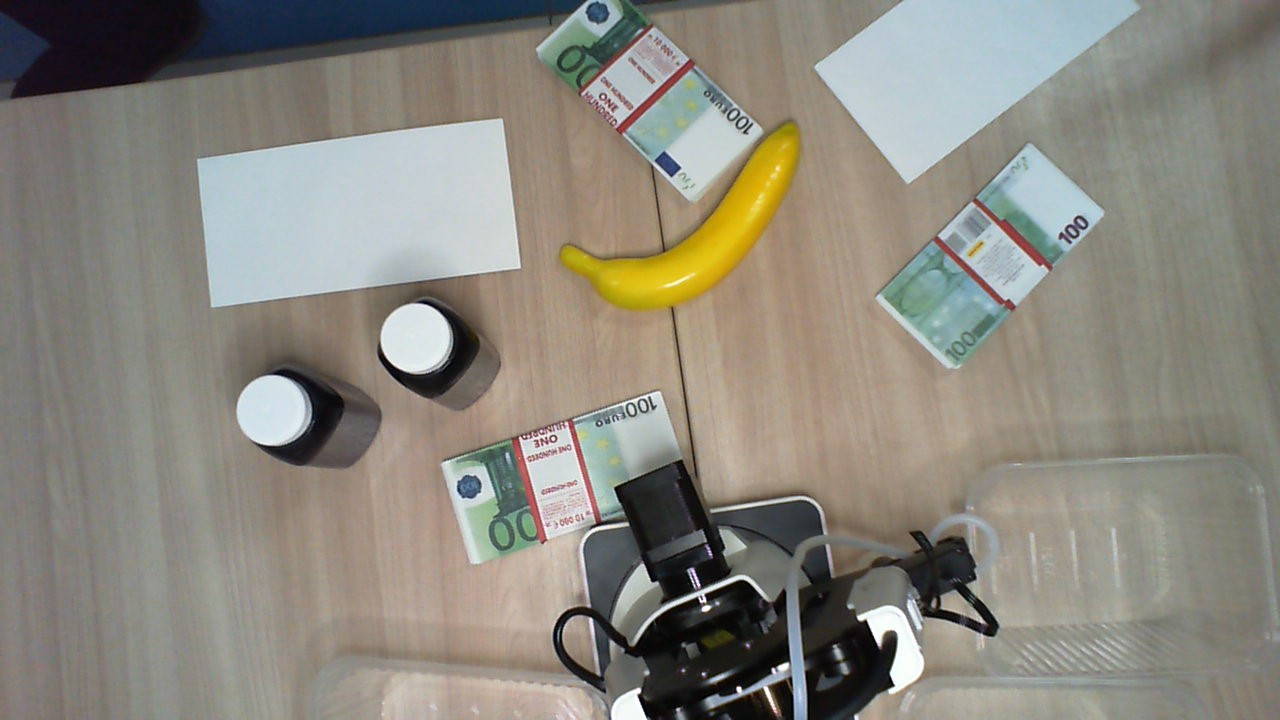banana: (556, 115, 804, 320)
bottle: (373, 295, 481, 400), (232, 364, 331, 469)
convert: (193, 113, 526, 311), (813, 1, 1140, 184)
money: (875, 150, 1108, 372), (437, 390, 693, 570), (537, 1, 764, 199)
